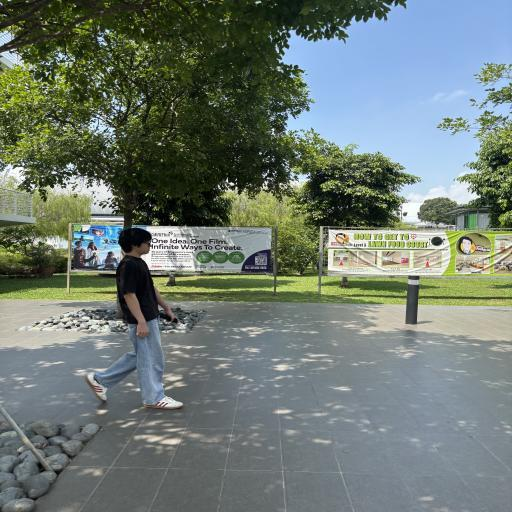person_right: (96, 223, 196, 419)
